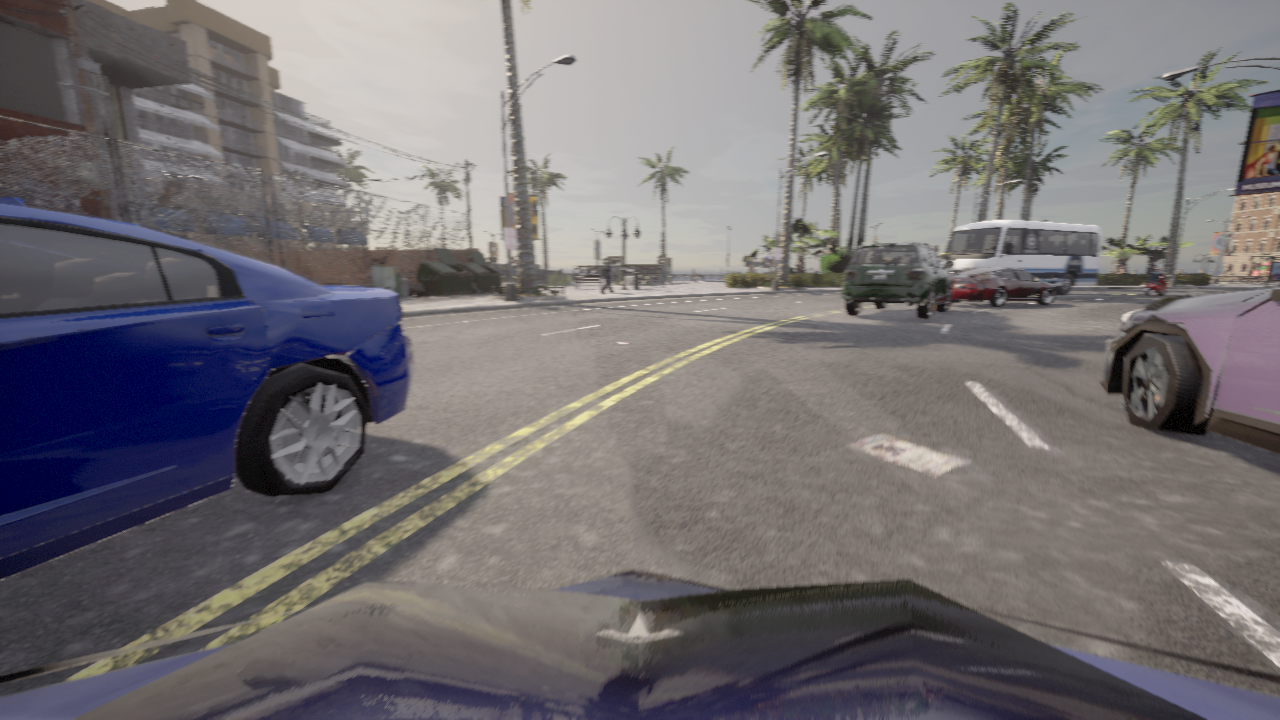cyclist: (0, 569, 1279, 719), (0, 196, 414, 580), (1098, 287, 1279, 453), (934, 220, 1101, 294), (842, 242, 953, 319), (951, 267, 1055, 306), (1144, 274, 1169, 295)
pedestrian: (601, 260, 615, 293)
